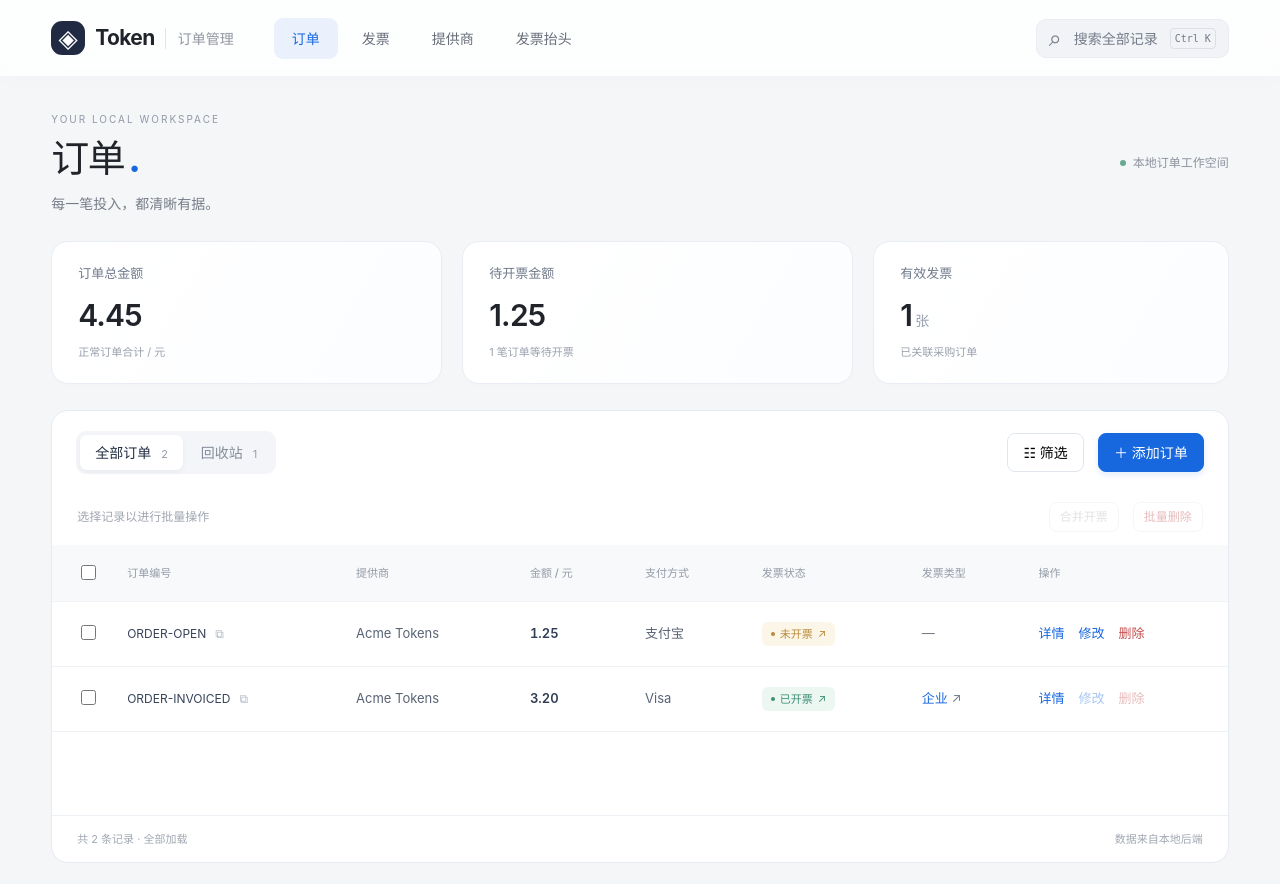
Scenario: 正式前端用户交互 › 提交期间重复点击只写入一次
Expected: the button "ORDER-OPEN⧉" is shown, [127,625,224,643]
Step 1. Click the button "提供商" → [453, 38], box [414,18,492,58]
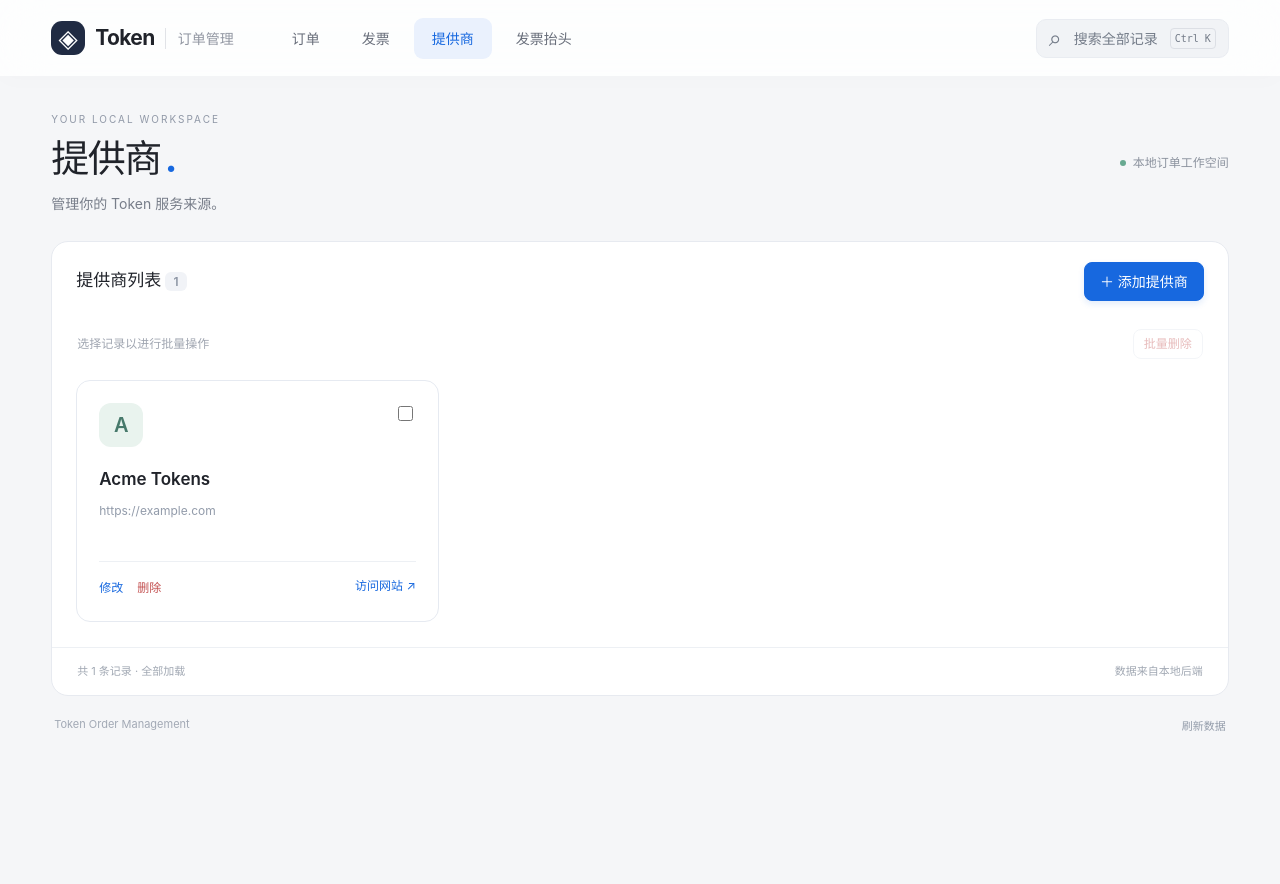
Step 2. Click the button "＋ 添加提供商" → [1144, 281], box [1084,262,1204,300]
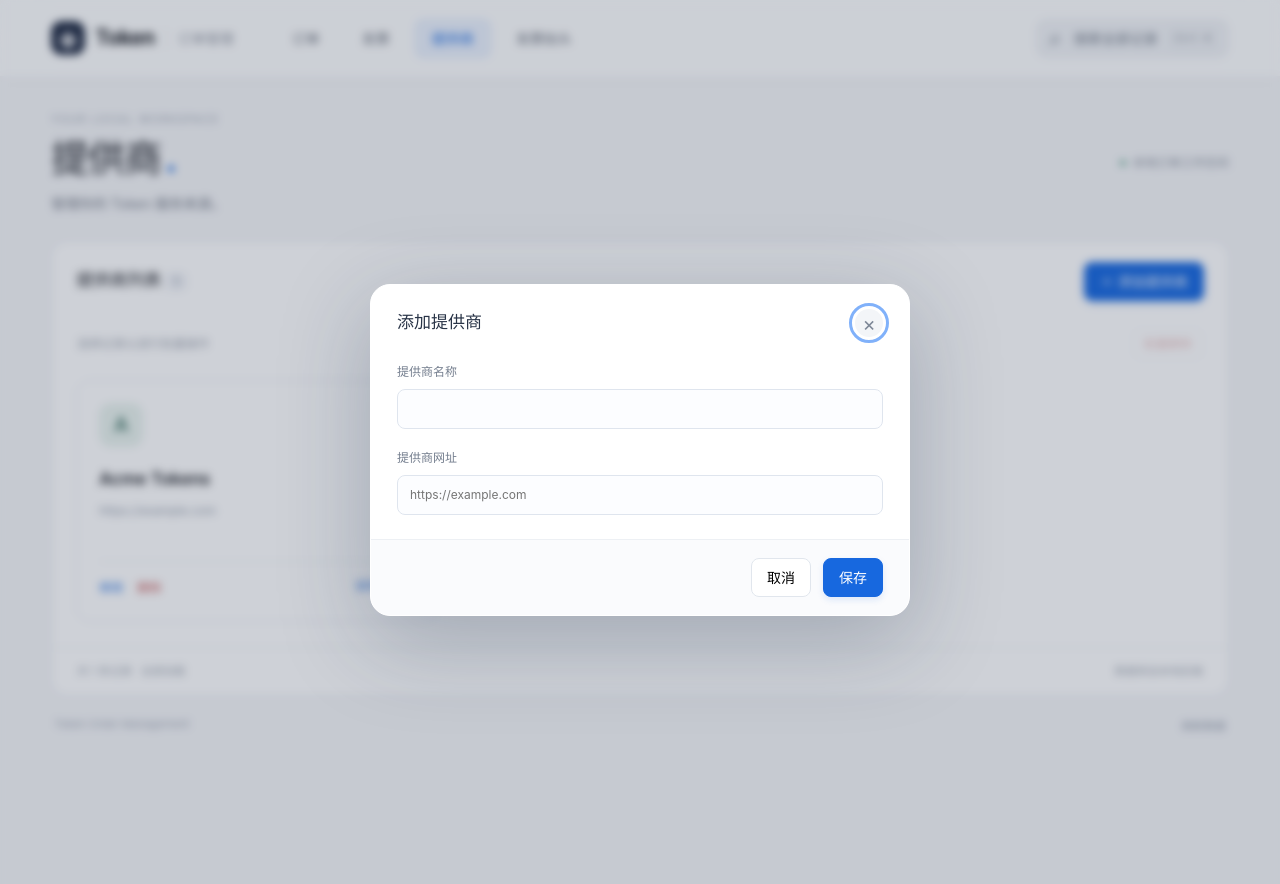
Step 3. Type "新服务商" into the field labelled "提供商名称" → [640, 409], box [397,389,883,429]
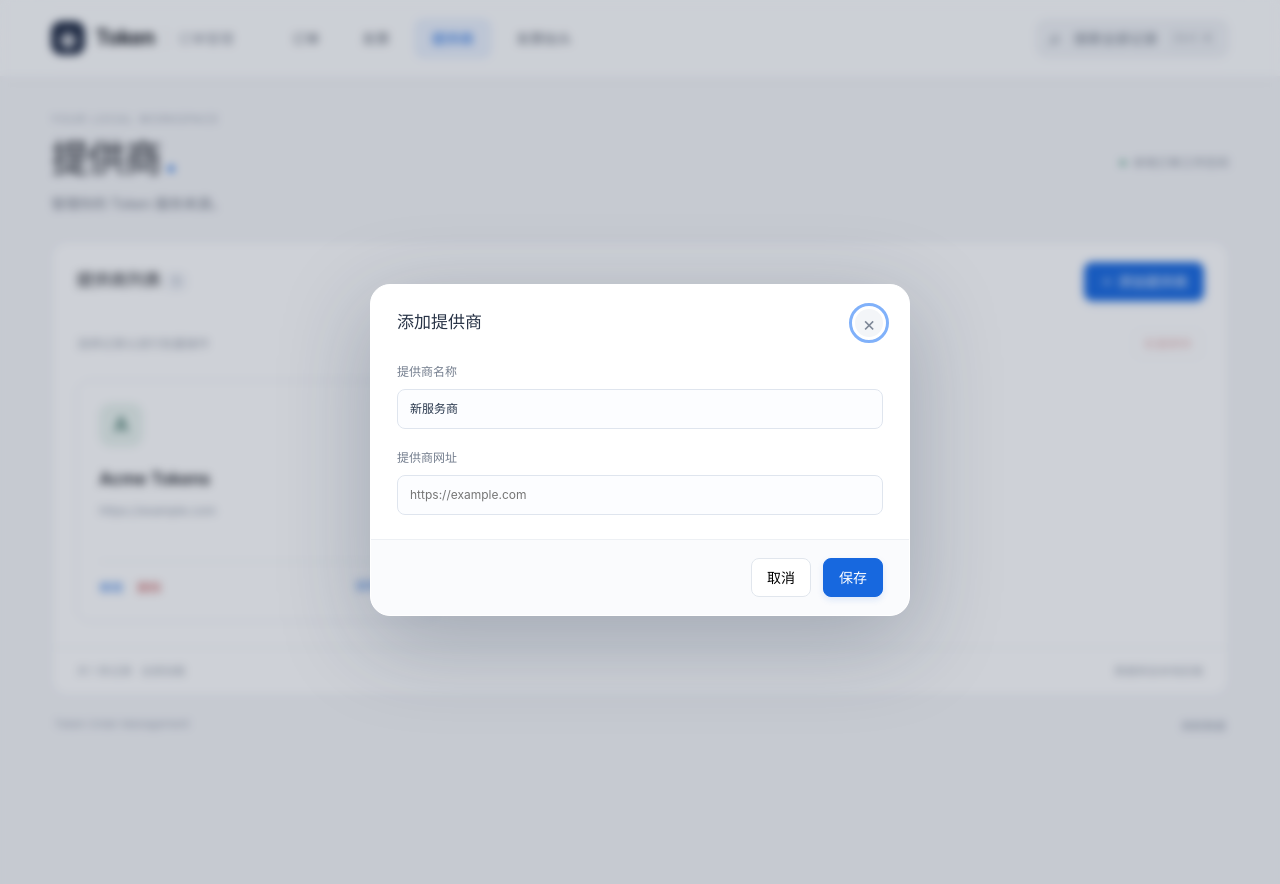
Step 4. Type "https://new.example.com" into the field labelled "提供商网址" → [640, 495], box [397,475,883,515]
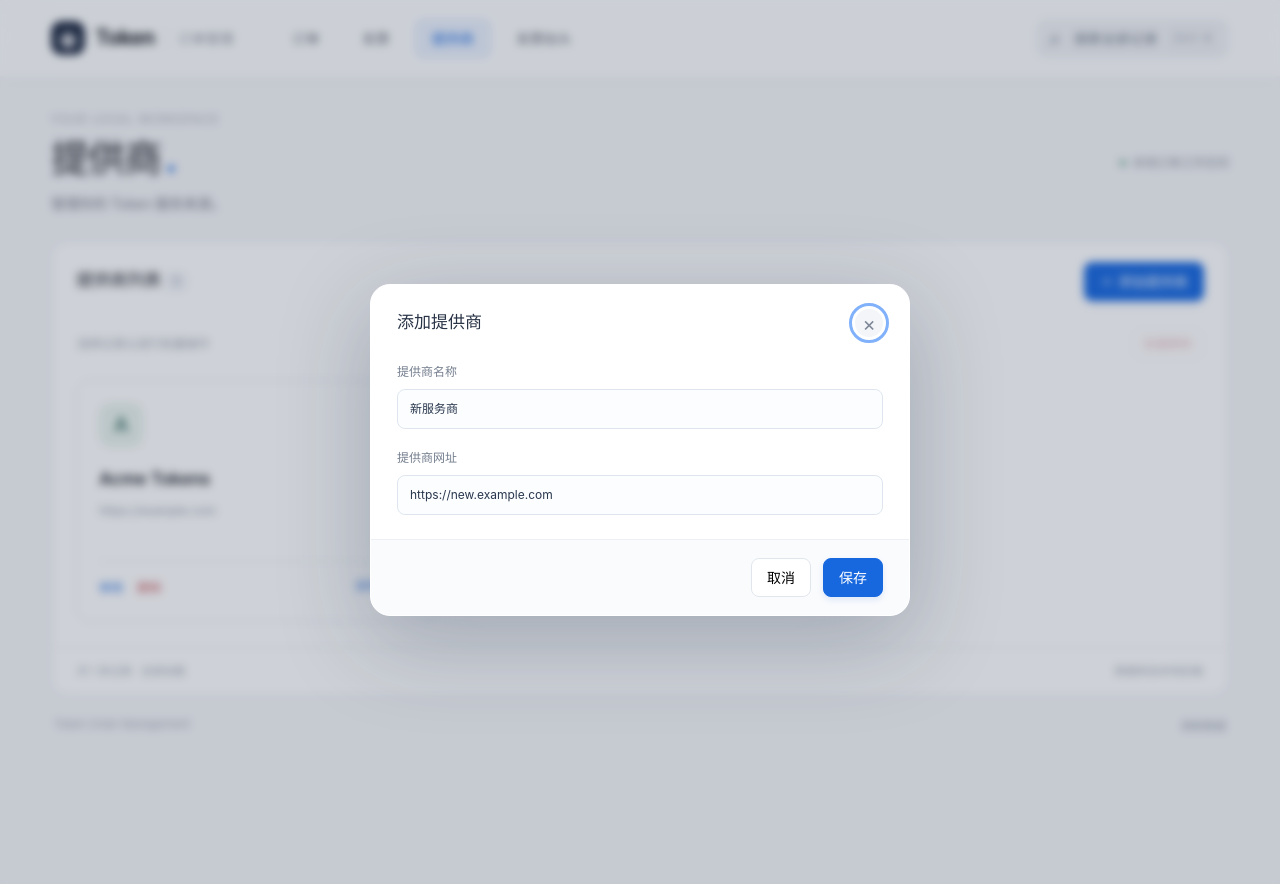
Step 5. Click the button "保存" → [853, 578], box [823,558,883,597]
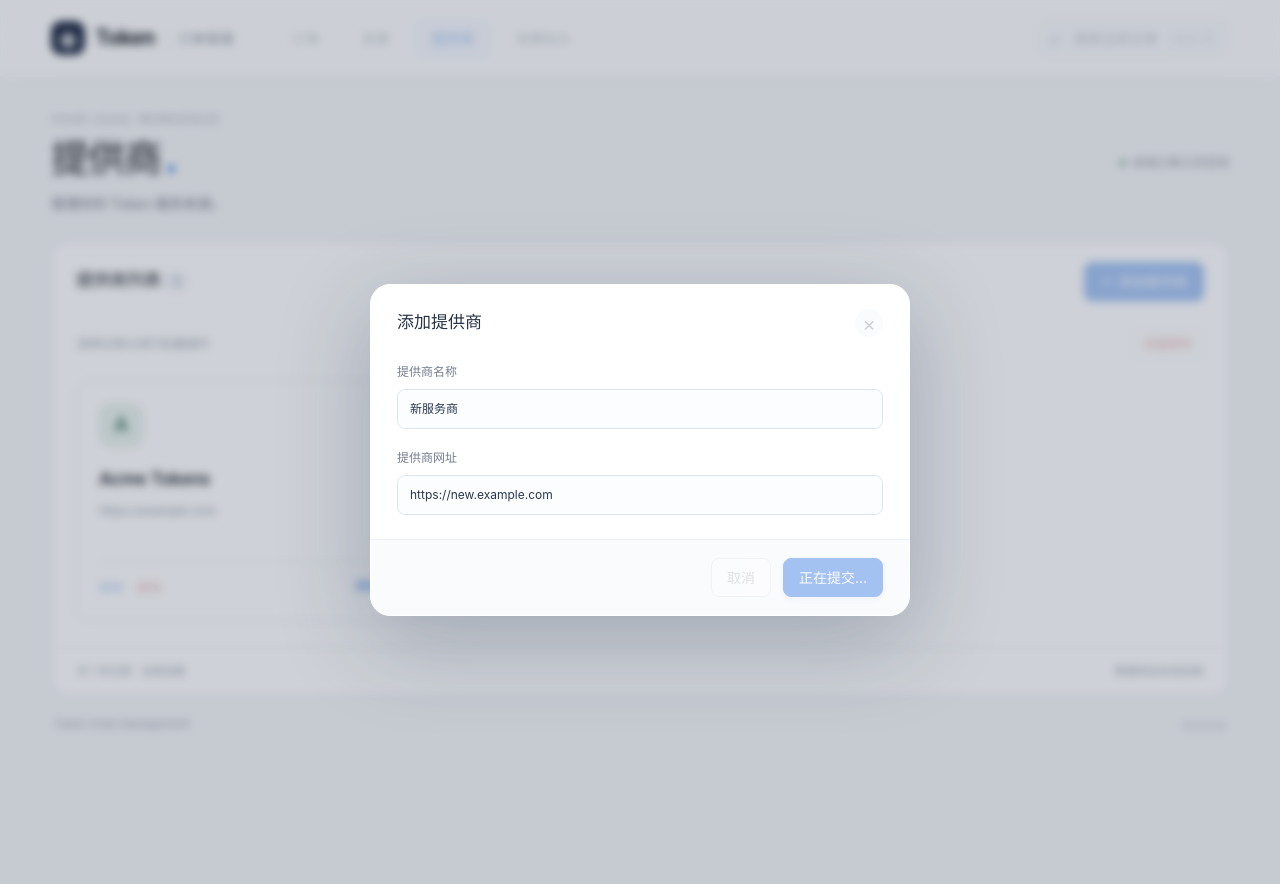
Step 6. Click the button named "保存" → [833, 578], box [783,558,883,597]
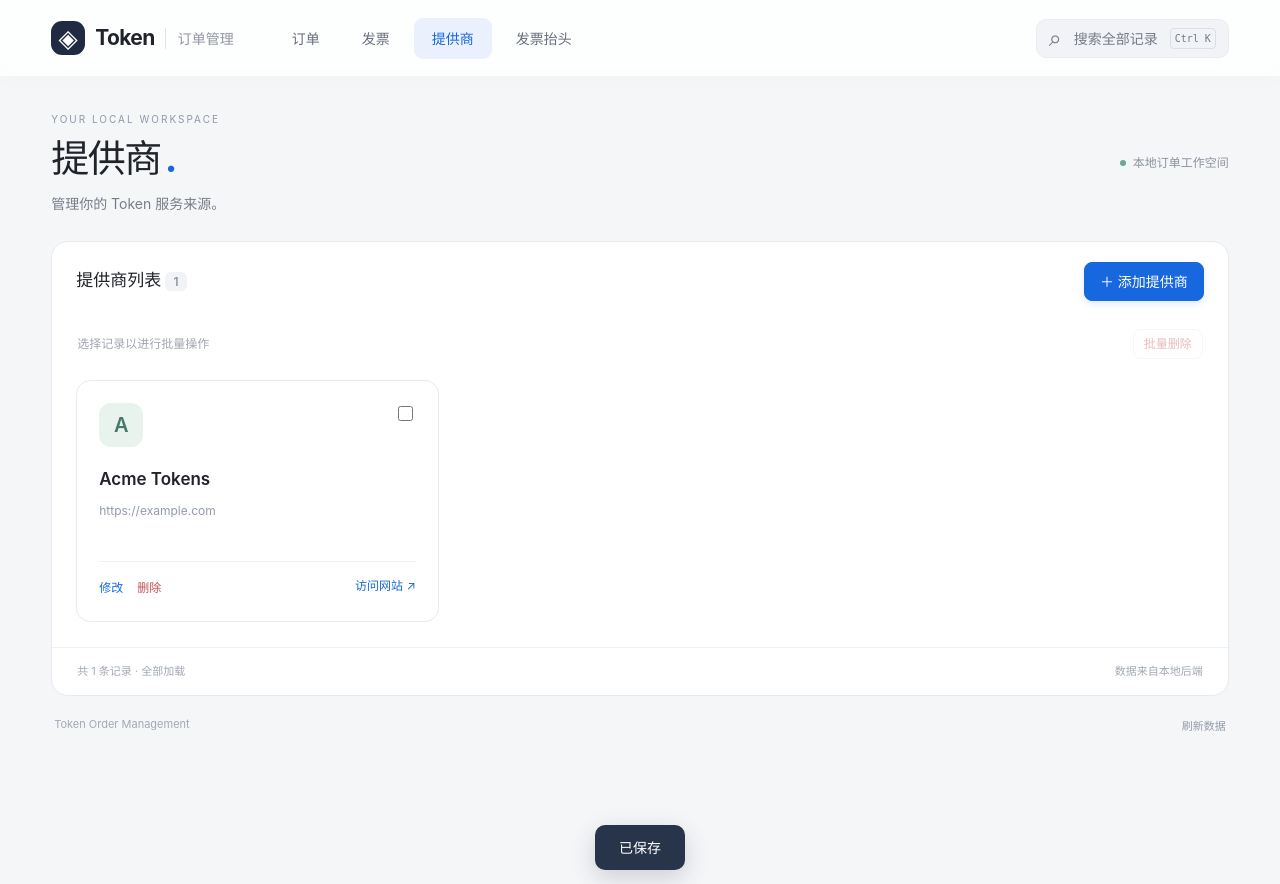
Expected: the dialog is gone
